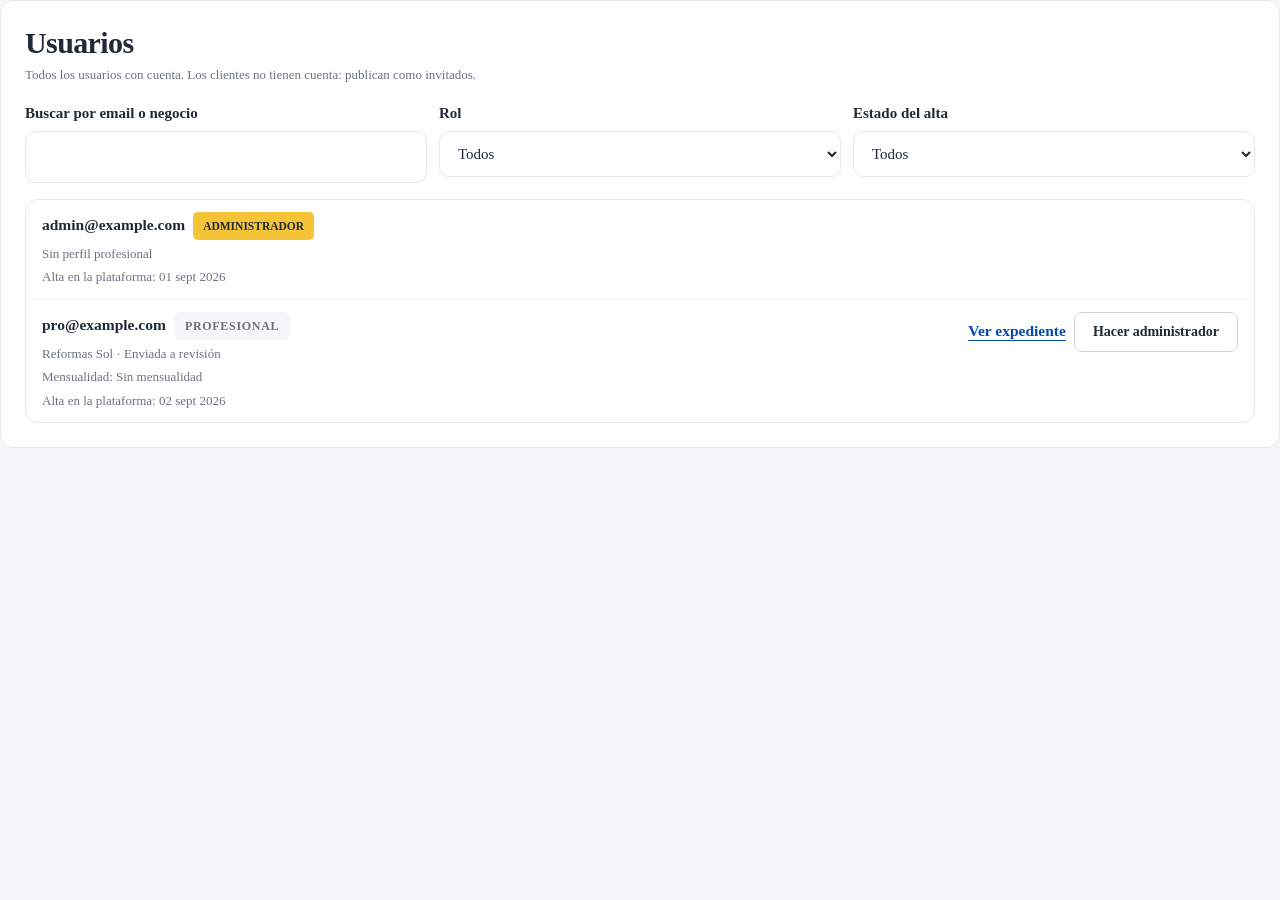
Test: AdminUsers › promotes a professional after confirming, with the note
Expected: the list item "pro@example.com" is shown, [42,316,166,334]
Click the button "Hacer administrador": (1156, 332) [1074,312,1238,352]
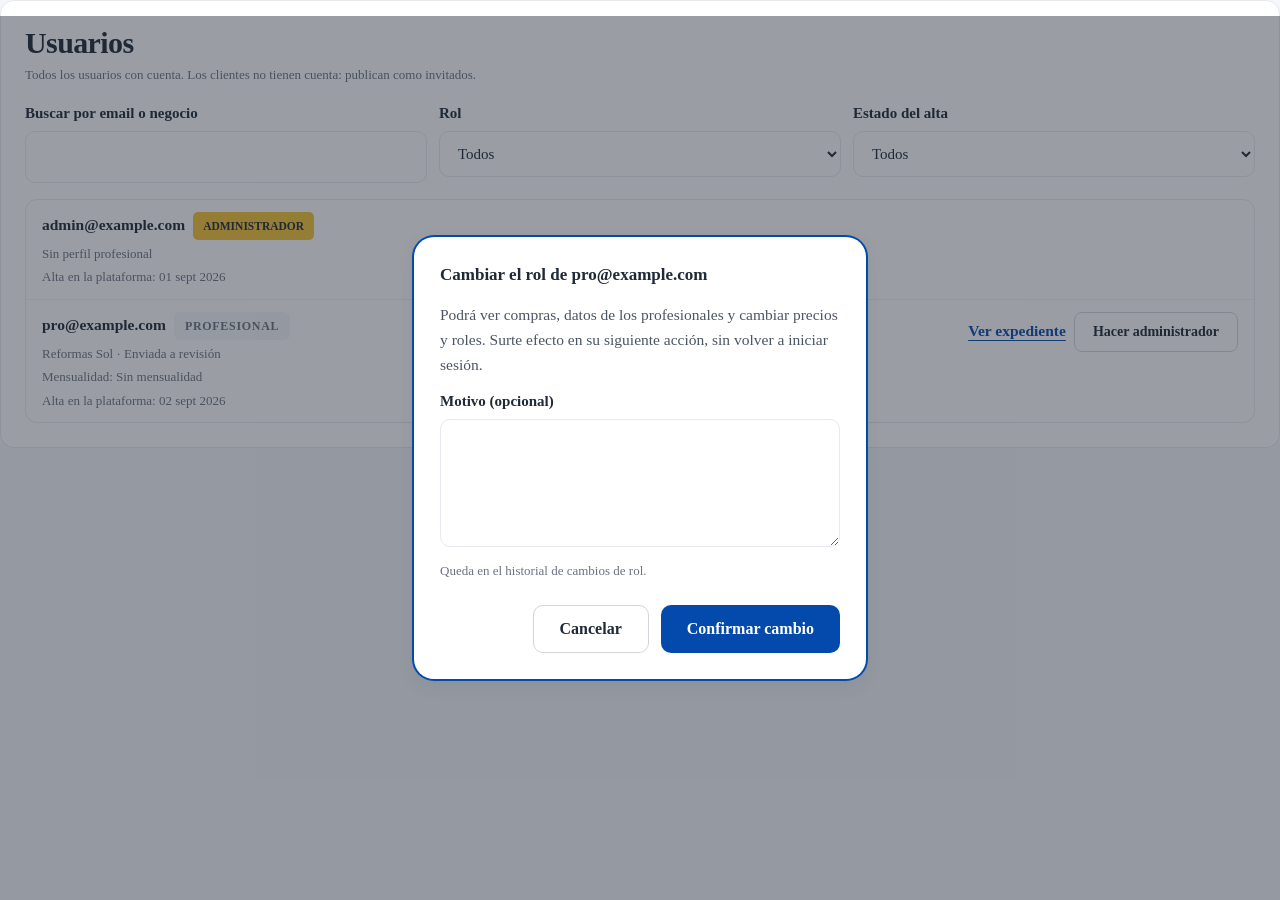
Expected: the text "Podrá ver compras, datos de los profesionales y cambiar precios y roles. Surte efecto en su siguiente acción, sin volver" is shown, [440,306,838,373]
In the text box labelled "Motivo (opcional)": (640, 483) [440,419,840,547], type "soporte"
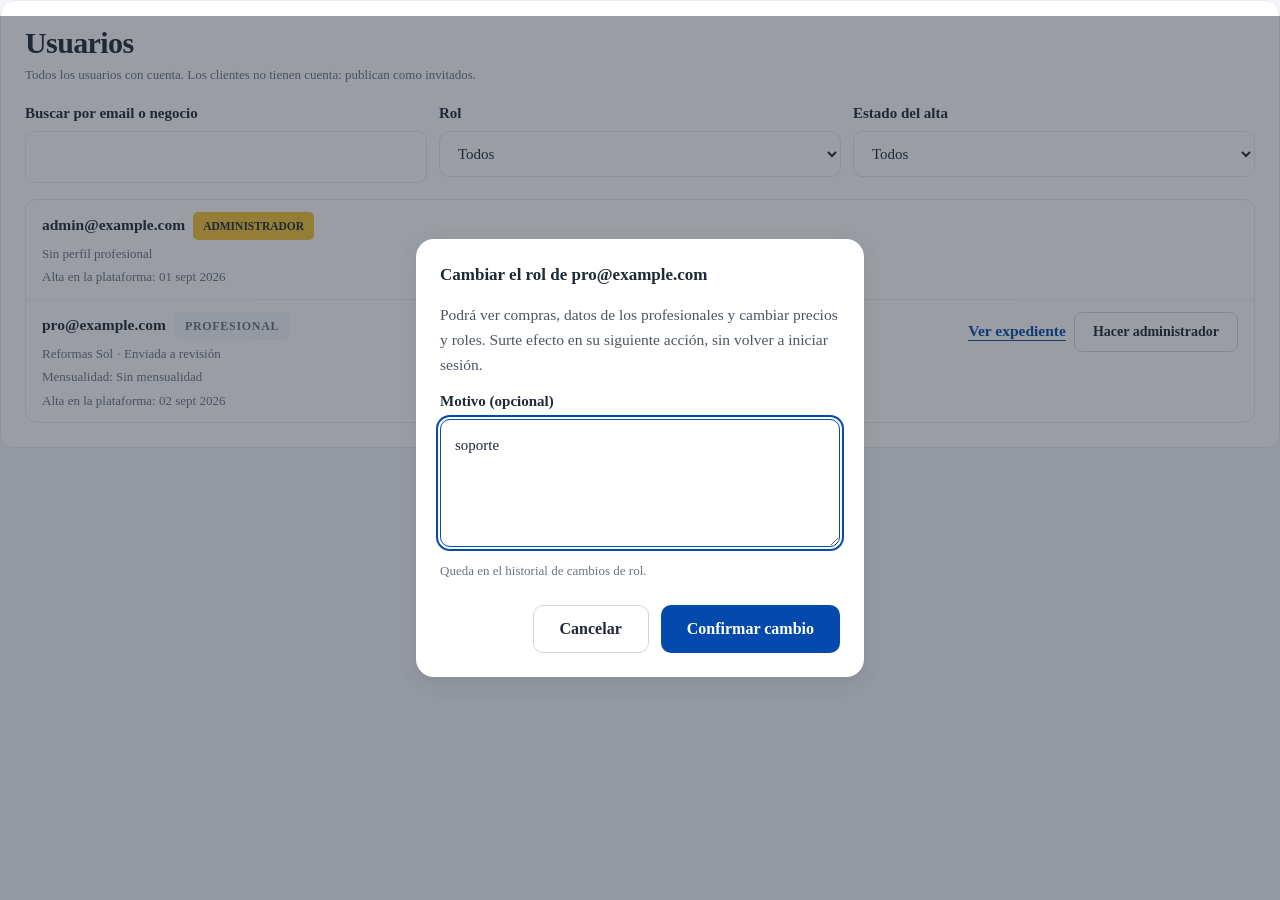
Click the button "Confirmar cambio": (750, 629) [661,605,840,653]
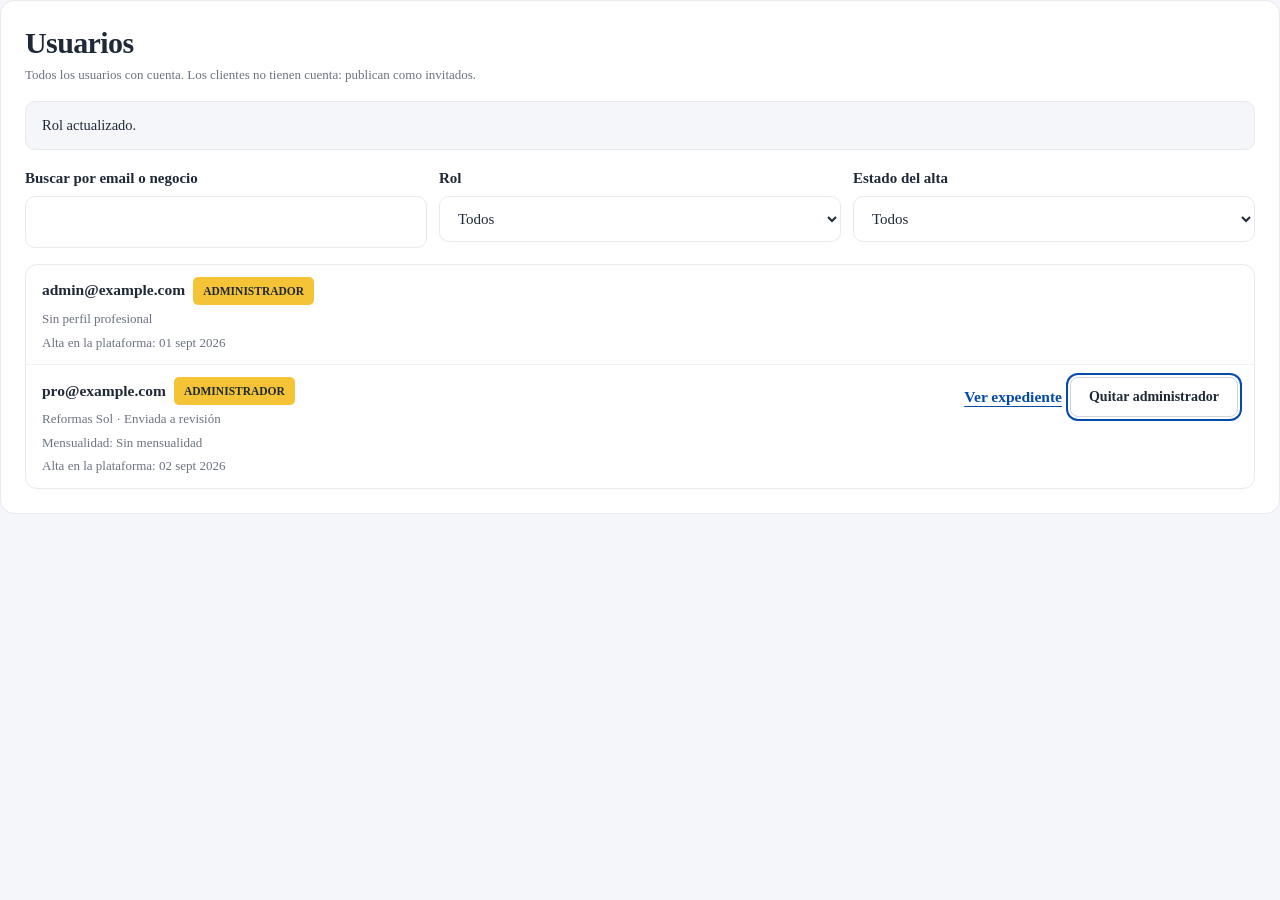
Expected: the dialog is gone
Expected: the text "Rol actualizado." is shown, [42,116,136,132]
Expected: the text "Administrador" next to "pro@example.com" is shown, [184,385,285,397]
